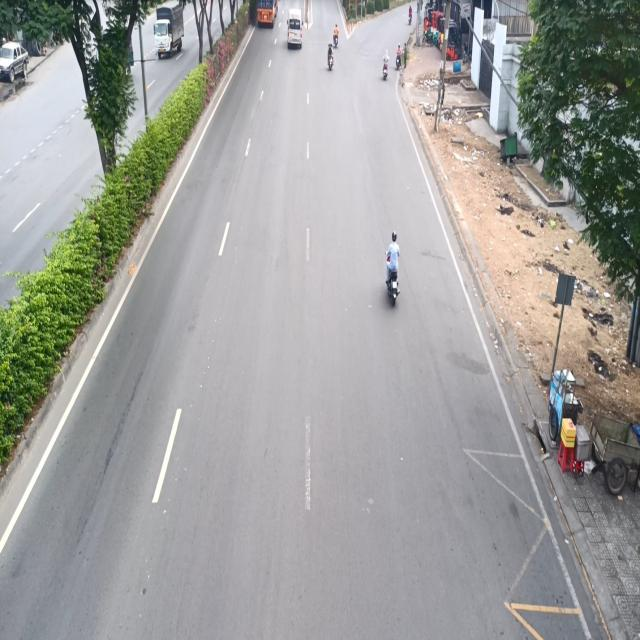car: (287, 6, 306, 54)
motor: (382, 222, 401, 312), (380, 49, 390, 83), (326, 42, 336, 70)
